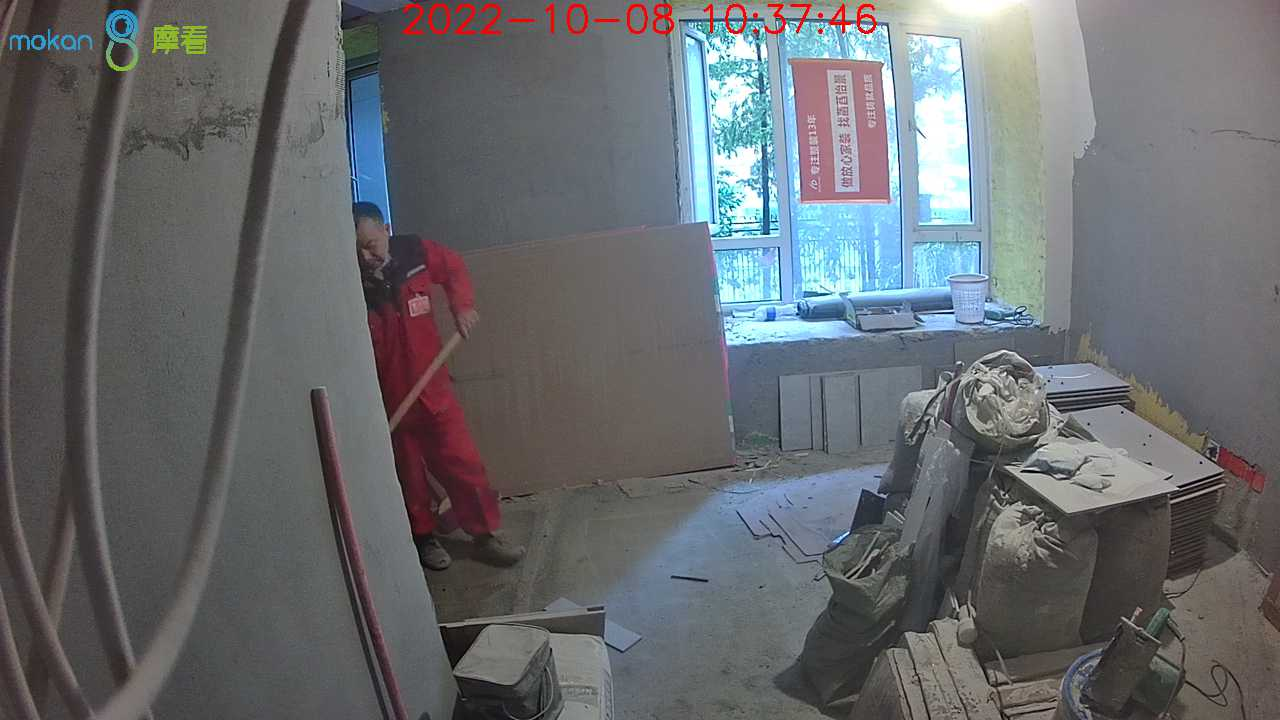people: (353, 201, 522, 574)
window: (673, 16, 995, 323)
